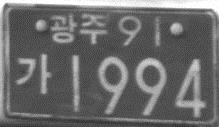1: (70, 52, 81, 114), (152, 14, 162, 49)
4: (173, 57, 207, 119)
9: (134, 56, 169, 117), (96, 56, 130, 115), (118, 15, 141, 46)
가: (14, 53, 53, 94)
광주_O: (49, 12, 108, 46)
